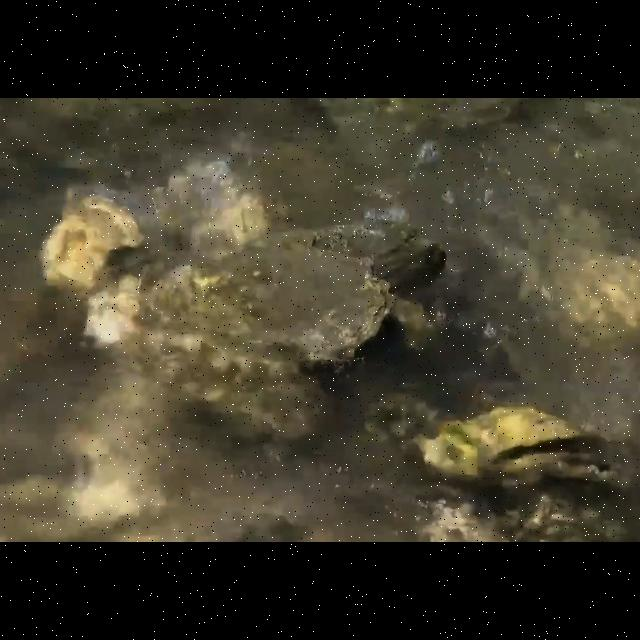Oyster-Closed: (147, 240, 395, 358), (146, 322, 328, 442), (40, 188, 142, 292), (308, 217, 448, 291)
Oyster-Open: (427, 405, 613, 485)
